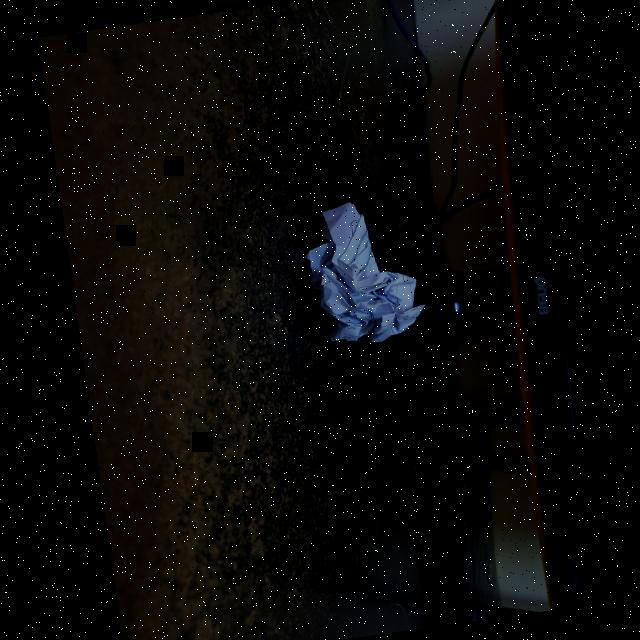scrap_paper: (296, 184, 432, 354)
